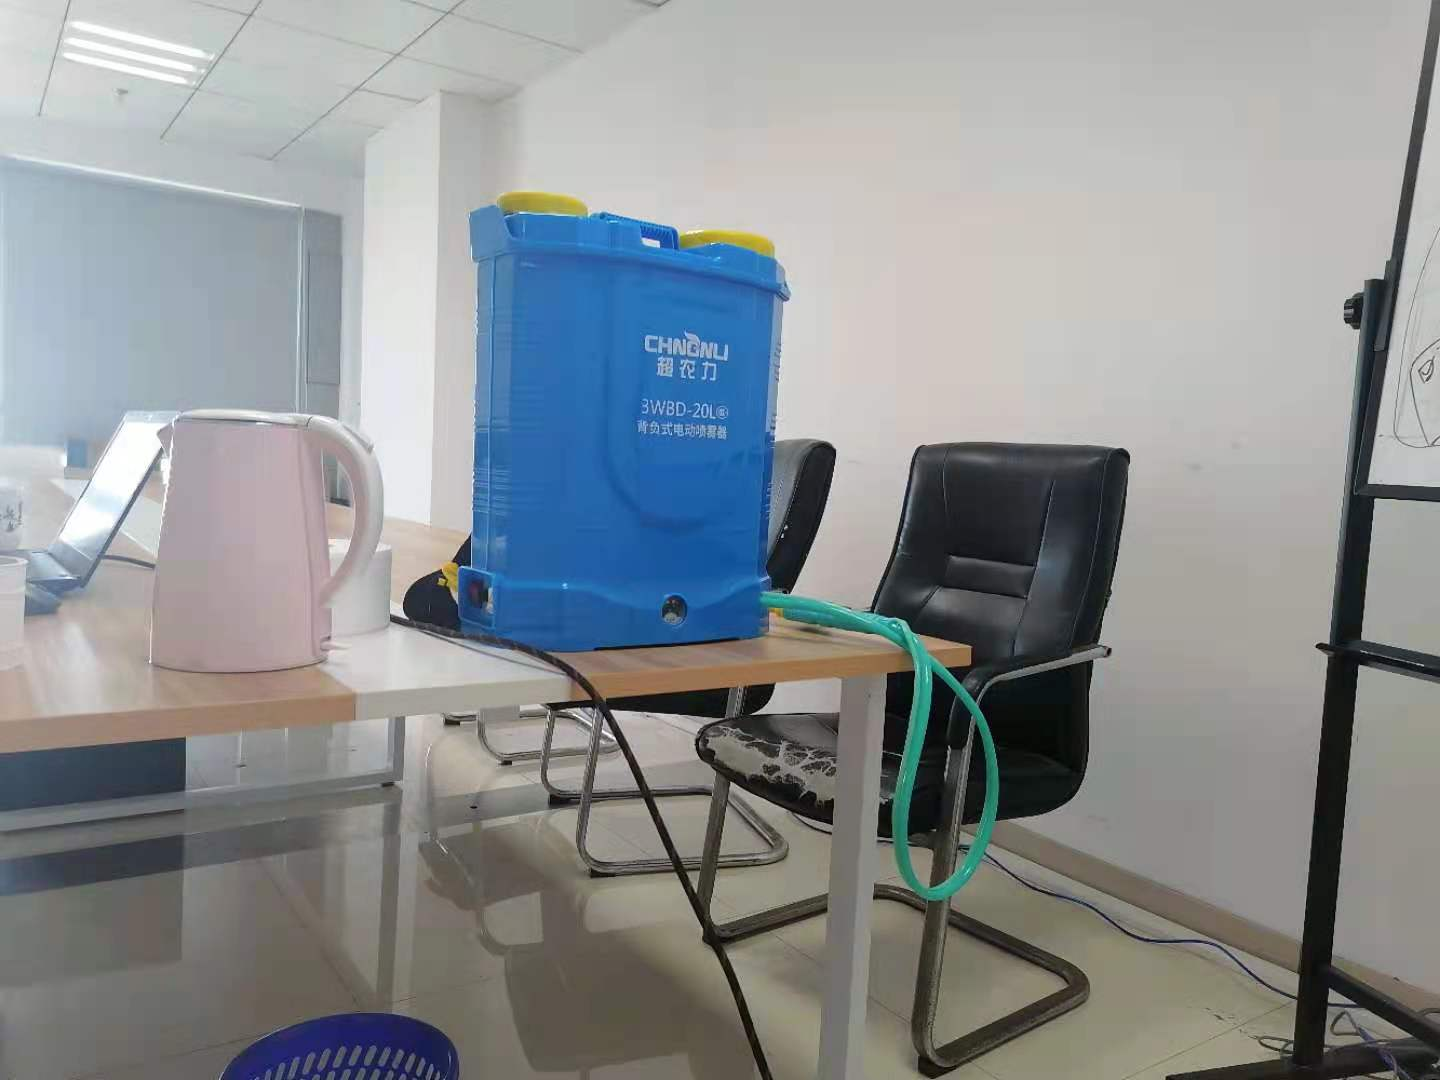berrl: (444, 186, 797, 653)
